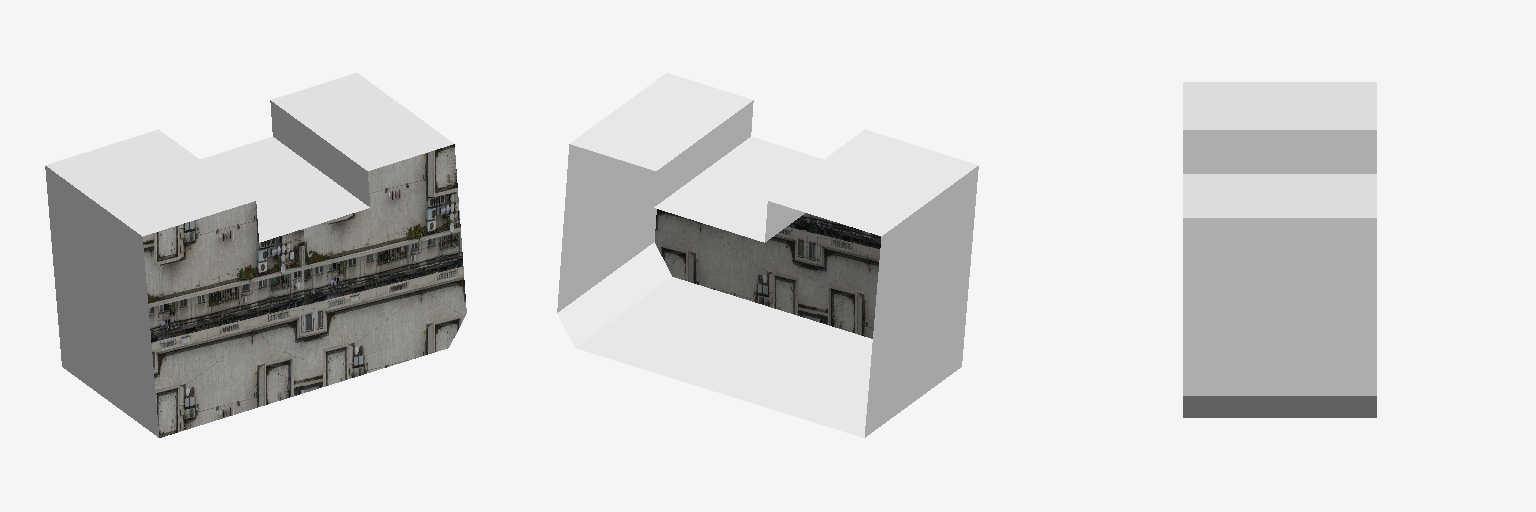
The picture shows the model from 3 angles: view 1: azimuth 30°, elevation 25°; view 2: azimuth 150°, elevation 25°; view 3: azimuth 270°, elevation 25°; orthographic projection.
Parts seen in each view (by area): view 1: Building; view 2: Building; view 3: Building.
Boxes of the visible parts, x1,y1,x2,y2 form: Building: [45, 73, 466, 437]; Building: [557, 73, 978, 437]; Building: [1183, 82, 1376, 417].
Size of the model in its own units: 34.58 by 22.64 by 18.
Materials: 2 (1 with a texture image).